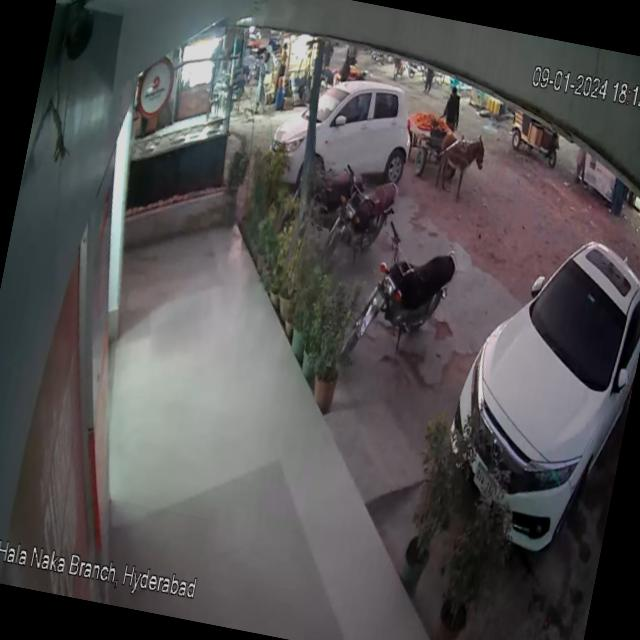Car: (426, 178, 640, 577), (246, 49, 426, 194)
Motorcycle: (338, 206, 474, 382), (328, 162, 408, 262)
